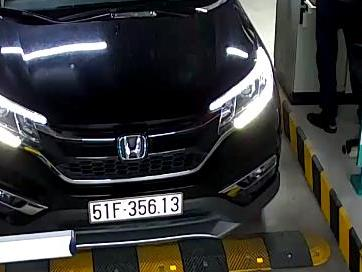number: (88, 193, 184, 223)
